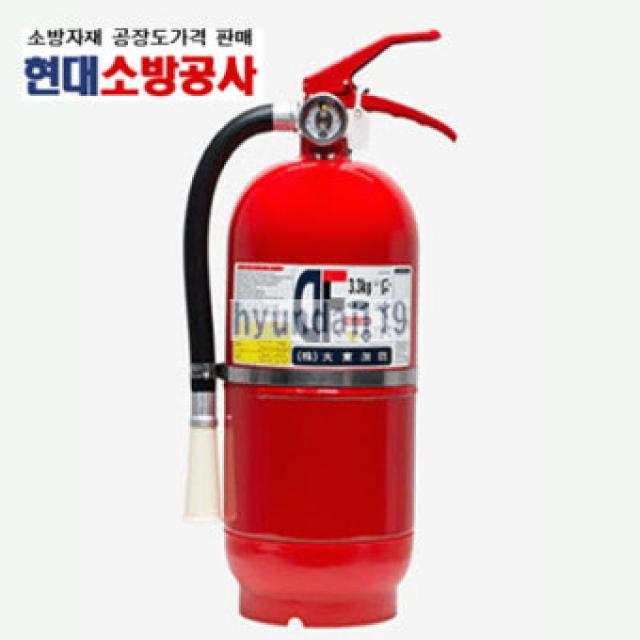pressure gauge: (301, 94, 344, 145)
